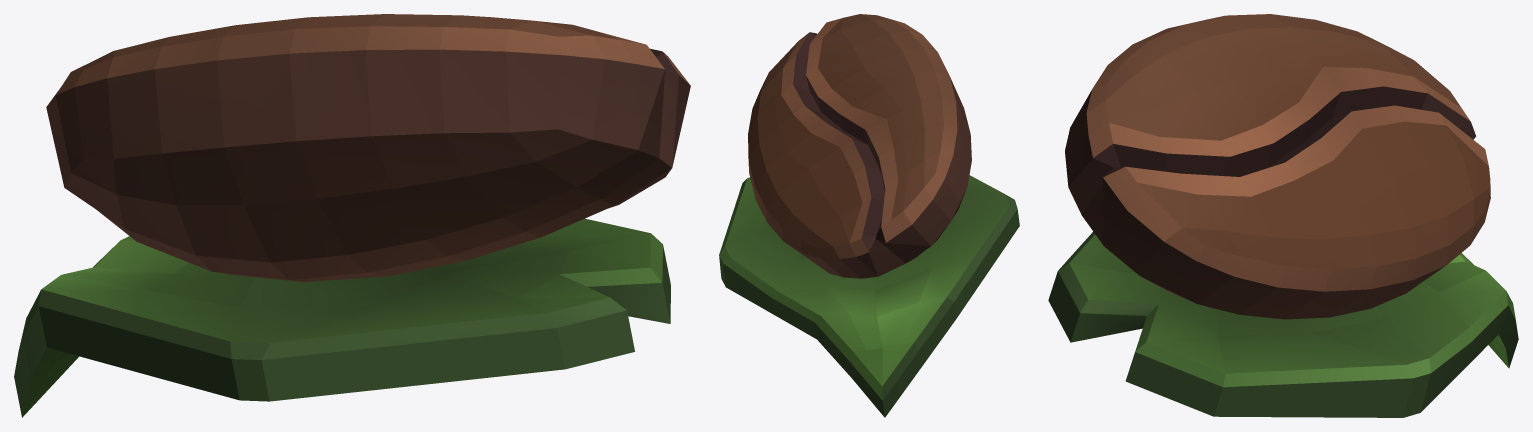
File: Icon_coffe.fbx
3 renders of one model, left to right at view 1: azimuth 30°, elevation 25°; view 2: azimuth 150°, elevation 25°; view 3: azimuth 270°, elevation 25°, orthographic. The views are drawn at different scales.
Visible parts, largest first — view 1: Cube.006, Cube.007; view 2: Cube.006, Cube.007; view 3: Cube.006, Cube.007.
Part boxes in pixels (bbox=[...]): Cube.006: bbox=[46, 14, 690, 281]; Cube.007: bbox=[14, 218, 670, 417]; Cube.006: bbox=[748, 14, 971, 278]; Cube.007: bbox=[719, 175, 1019, 417]; Cube.006: bbox=[1065, 14, 1490, 319]; Cube.007: bbox=[1048, 231, 1518, 417].
Size of the model in its own units: 373 by 358 by 383.
